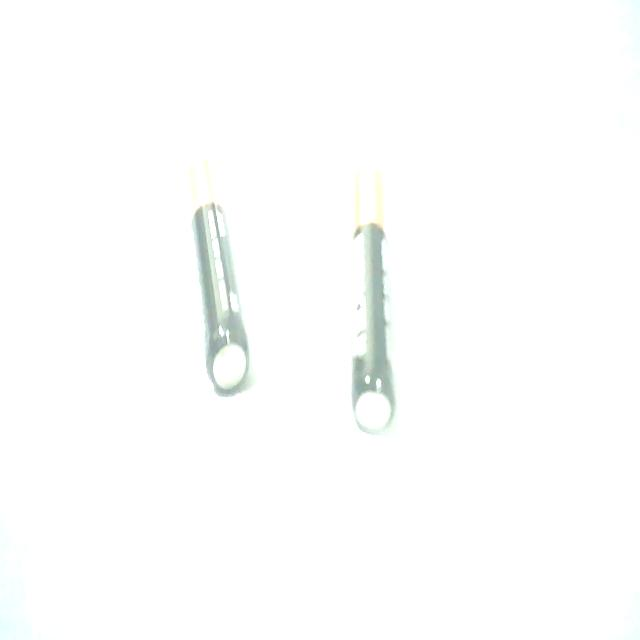AAA: (178, 146, 254, 404), (344, 156, 404, 440)
